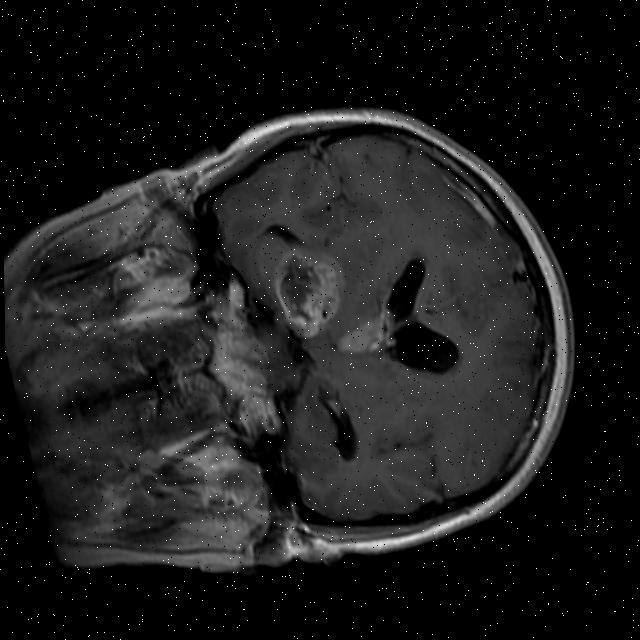Glioma: (265, 238, 356, 346)
Pituitary: (199, 323, 272, 405)
